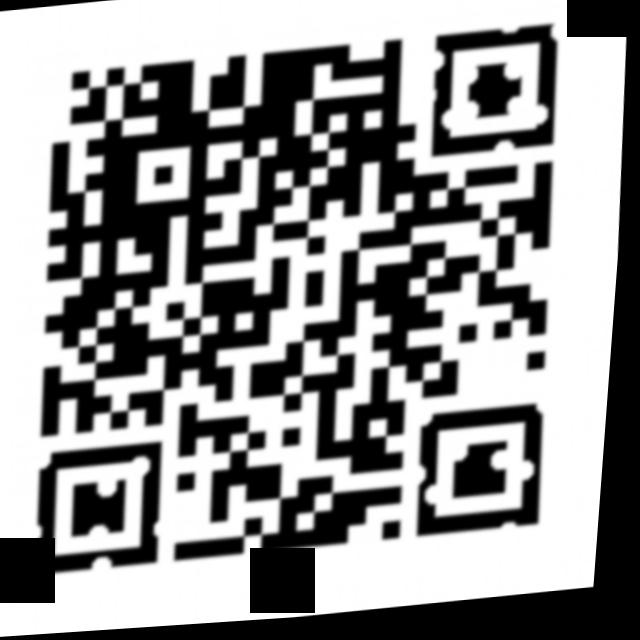QR_CODE: (0, 7, 599, 602)
